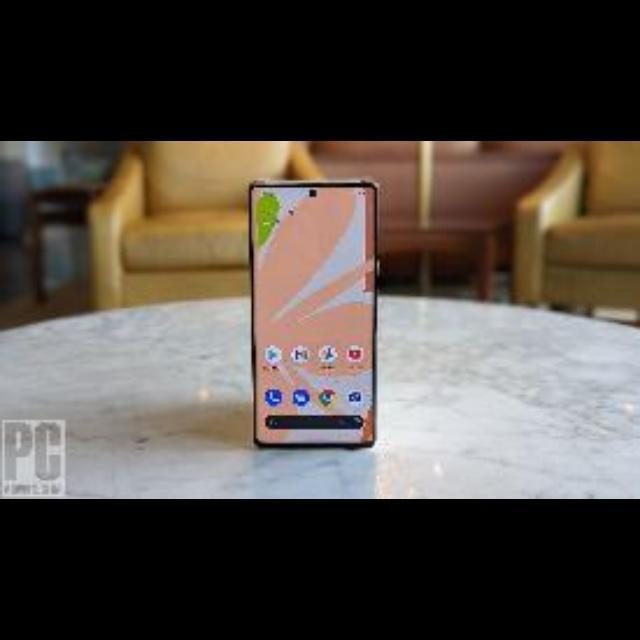phone: (250, 178, 378, 446)
